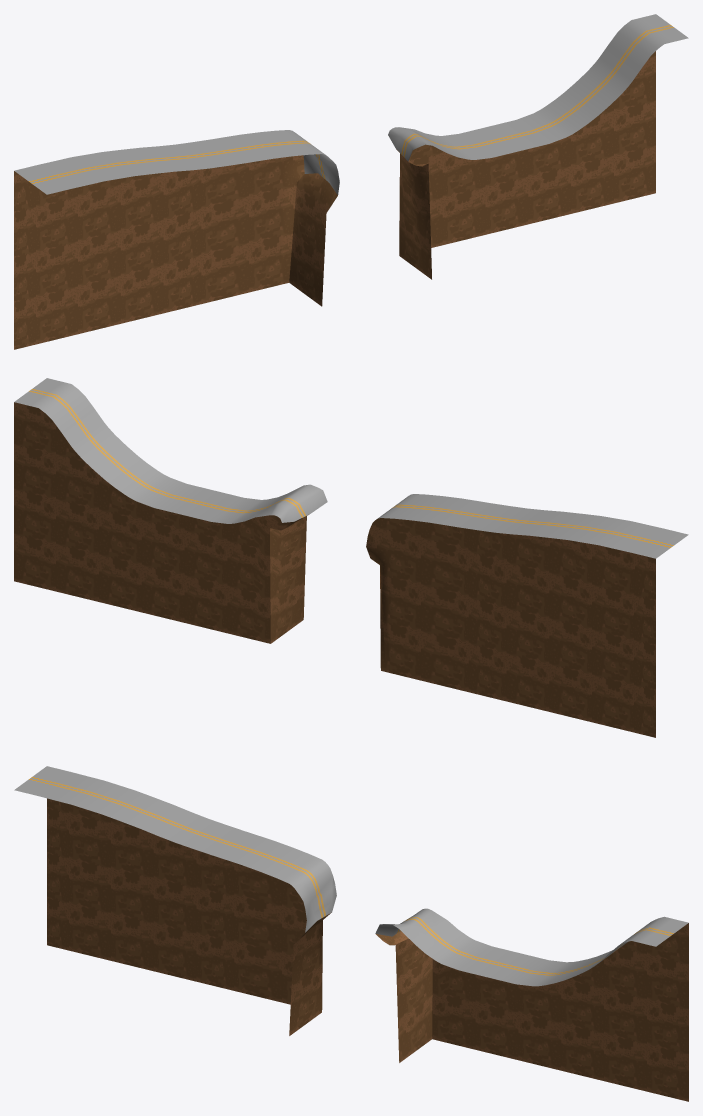
The model's file is Terrain_02_jump_point.FBX.
The picture shows the model from 3 angles, top to bottom: view 1: azimuth 30°, elevation 25°; view 2: azimuth 150°, elevation 25°; view 3: azimuth 330°, elevation 25°; orthographic projection.
Parts seen in each view (by area): view 1: Terrain_02_ground, Terrain_02; view 2: Terrain_02_ground, Terrain_02; view 3: Terrain_02_ground, Terrain_02.
Boxes of the visible parts, x1,y1,x2,y2 form: Terrain_02_ground: (14, 51, 655, 349); Terrain_02: (14, 14, 688, 194); Terrain_02_ground: (14, 402, 655, 737); Terrain_02: (14, 378, 688, 558); Terrain_02_ground: (47, 798, 688, 1101); Terrain_02: (14, 766, 688, 986).
Size of the model in its own units: 450 by 120 by 40.
